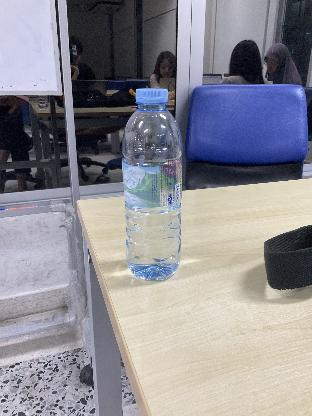Plastic Bottle: (120, 77, 190, 287)
